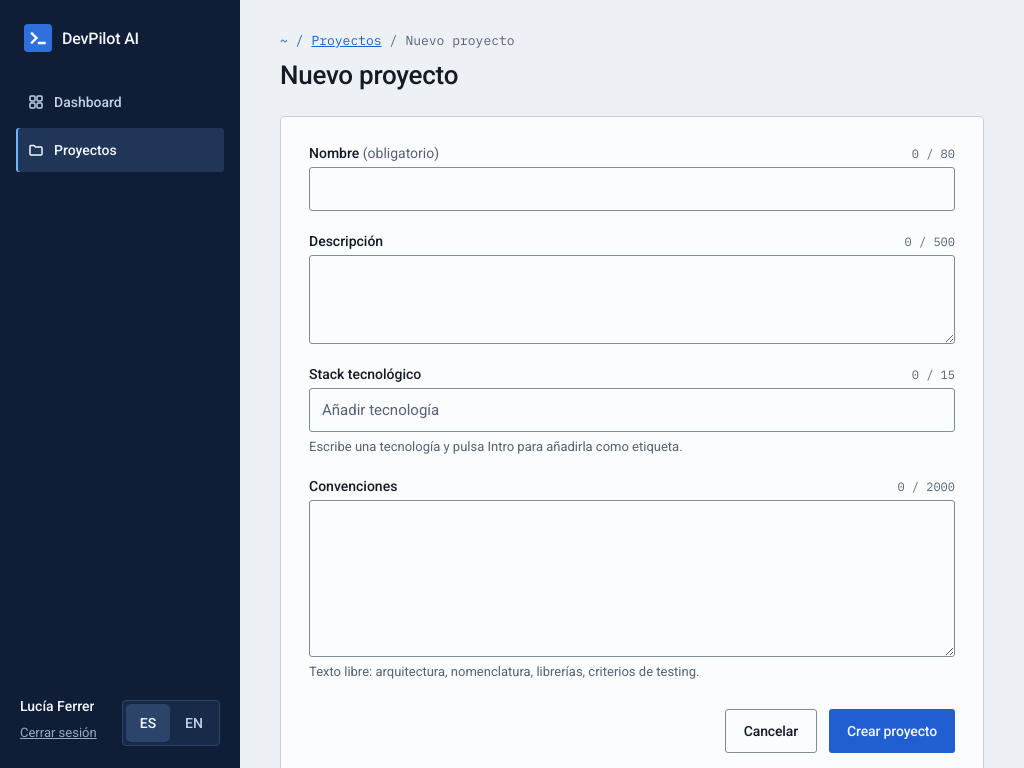
creating a project › keeps the form and shows the error when the project cannot be created
In the field labelled "Nombre (obligatorio)": (632, 188) [309,166,955,210], type "API de pagos"
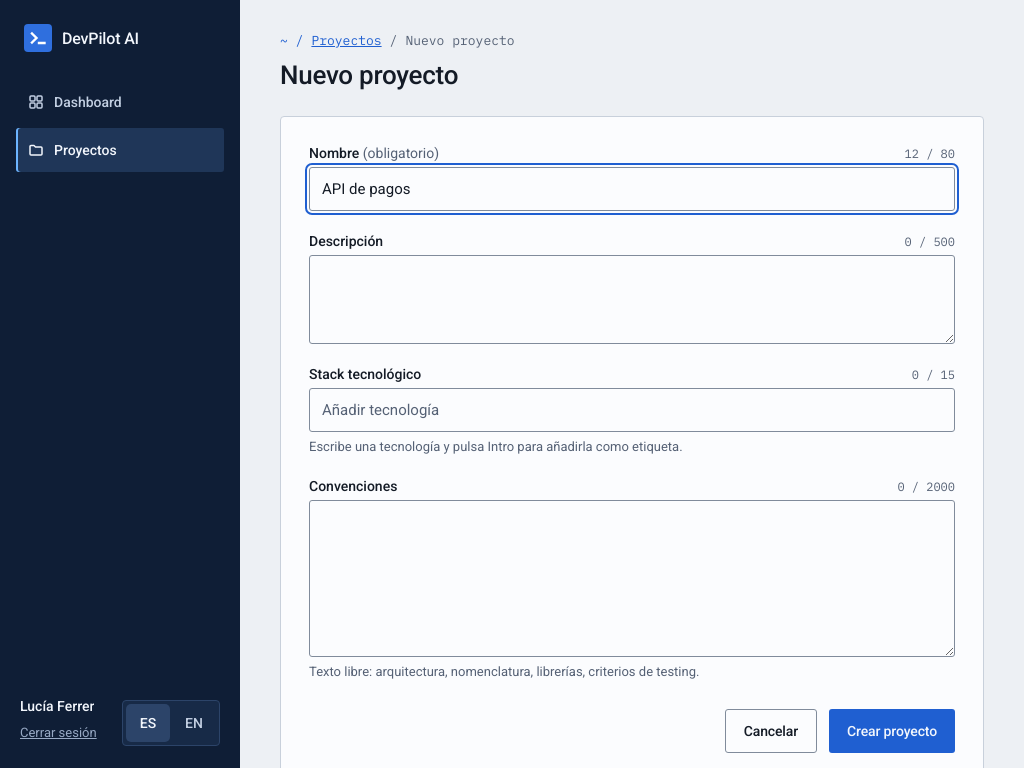
Click the button "Crear proyecto": (892, 731) [829,709,955,753]
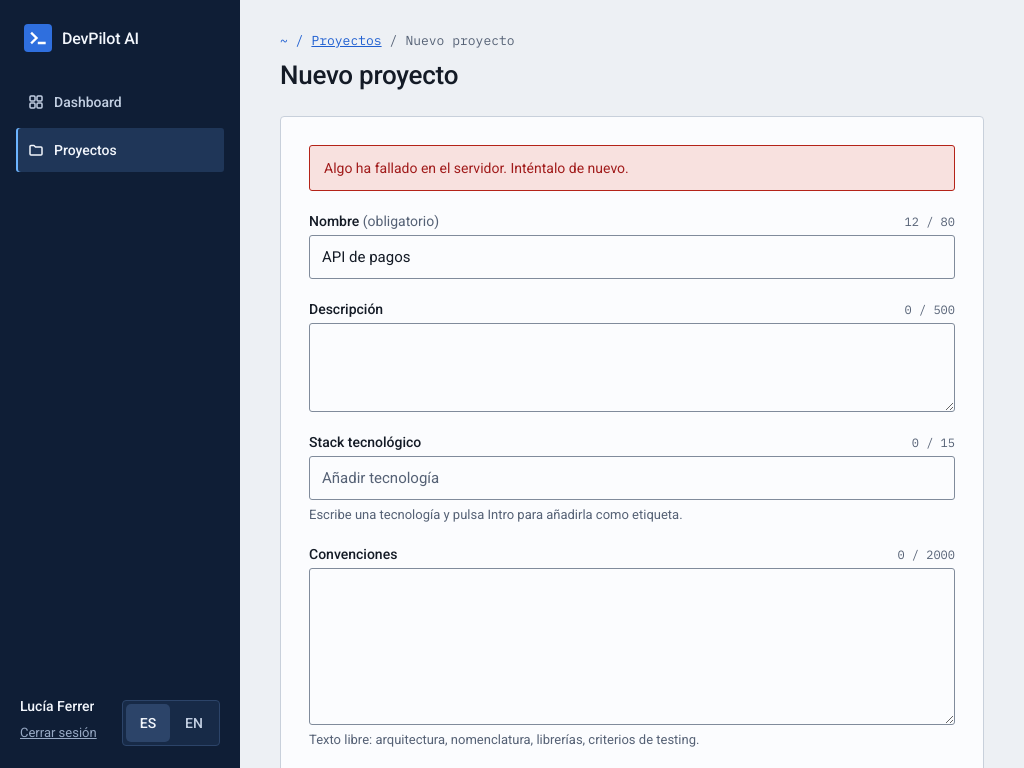
Expected: the message reads "Algo ha fallado en el servidor. Inténtalo de nuevo.", [324,160,629,176]
